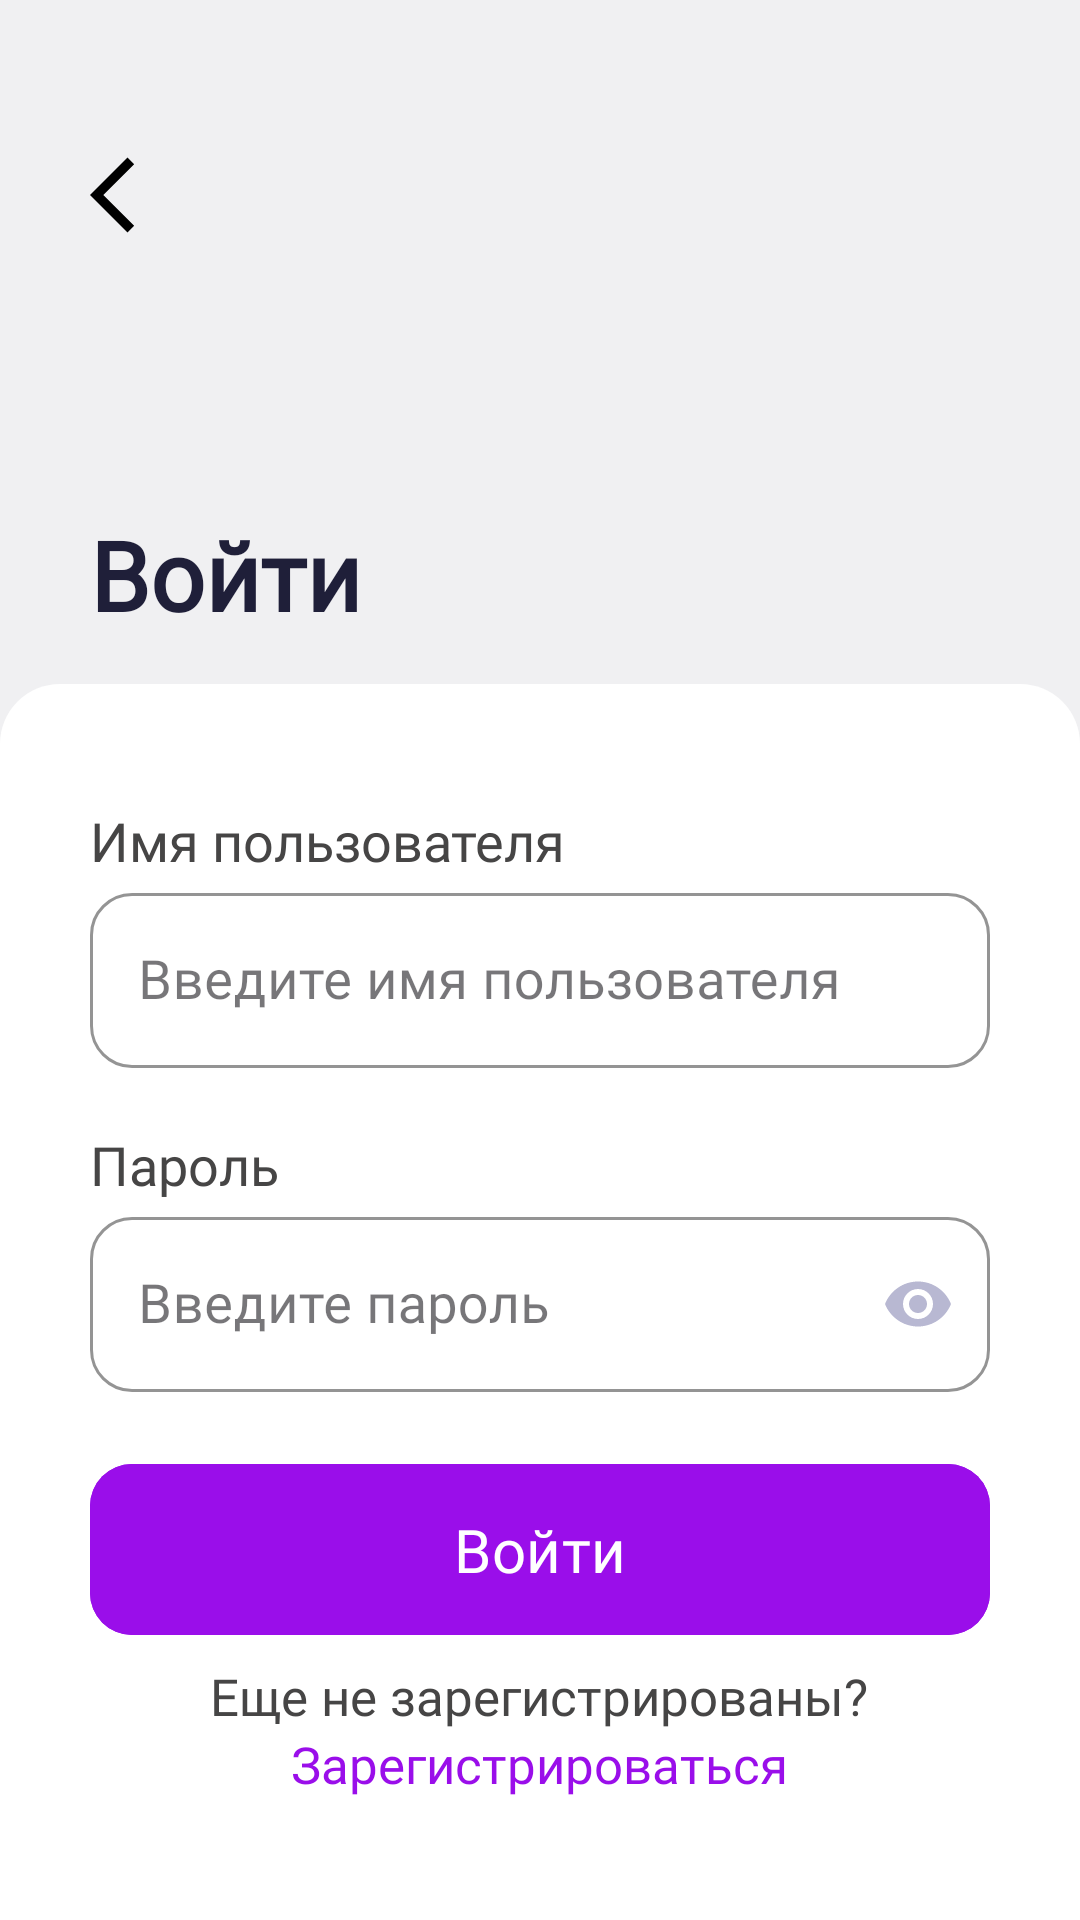

Named icons in this screenshot (1080 × 1920) and their bounding boxes, (x1, y1, x2, y2):
back to menu button: (90, 157, 134, 233)
